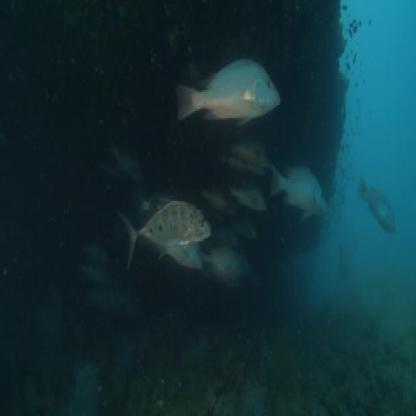Carangidae -Jacks-: (114, 188, 216, 266)
Lutjanidae -Snappers-: (170, 51, 285, 136), (268, 155, 329, 228)
